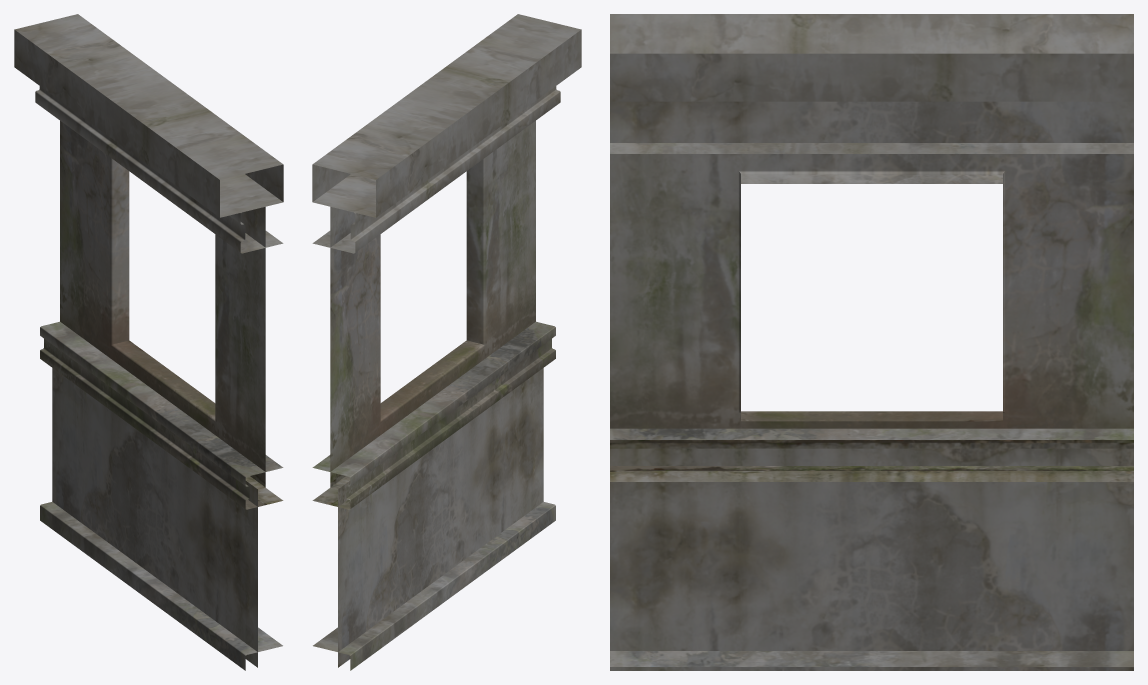
File: Psychiatric_Ward_Guards_Room_Exterior_Wall_2m_Window.glb
3 renders of one model, left to right at view 1: azimuth 30°, elevation 25°; view 2: azimuth 150°, elevation 25°; view 3: azimuth 270°, elevation 25°, orthographic. The views are drawn at different scales.
Parts seen in each view (by area): view 1: Psychiatric_Ward_Guards_Room_Exterior_Wall_2m_Window; view 2: Psychiatric_Ward_Guards_Room_Exterior_Wall_2m_Window; view 3: Psychiatric_Ward_Guards_Room_Exterior_Wall_2m_Window.
Part boxes in pixels (box(x1,y1,x2,y2)): Psychiatric_Ward_Guards_Room_Exterior_Wall_2m_Window: box(14, 14, 283, 670); Psychiatric_Ward_Guards_Room_Exterior_Wall_2m_Window: box(312, 14, 581, 670); Psychiatric_Ward_Guards_Room_Exterior_Wall_2m_Window: box(610, 14, 1133, 670).
Bounding box in the file's own units: 0.357 × 2.67 × 2.
2 materials, 2 textured.
